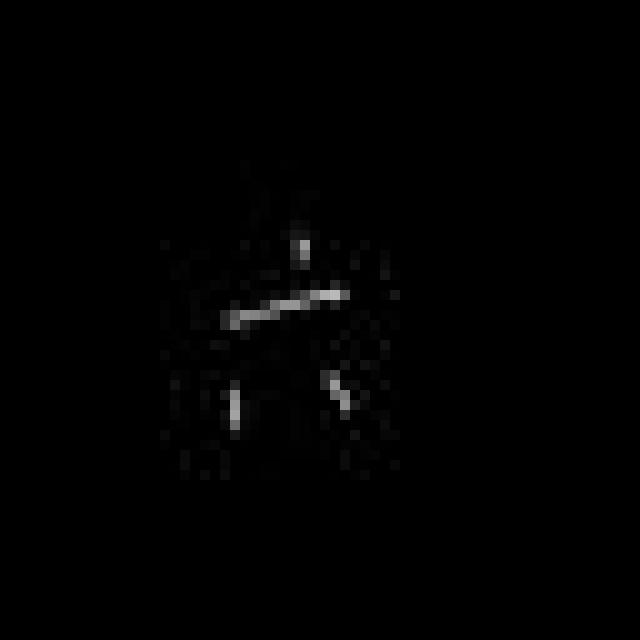6 -six-: (198, 225, 363, 444)
